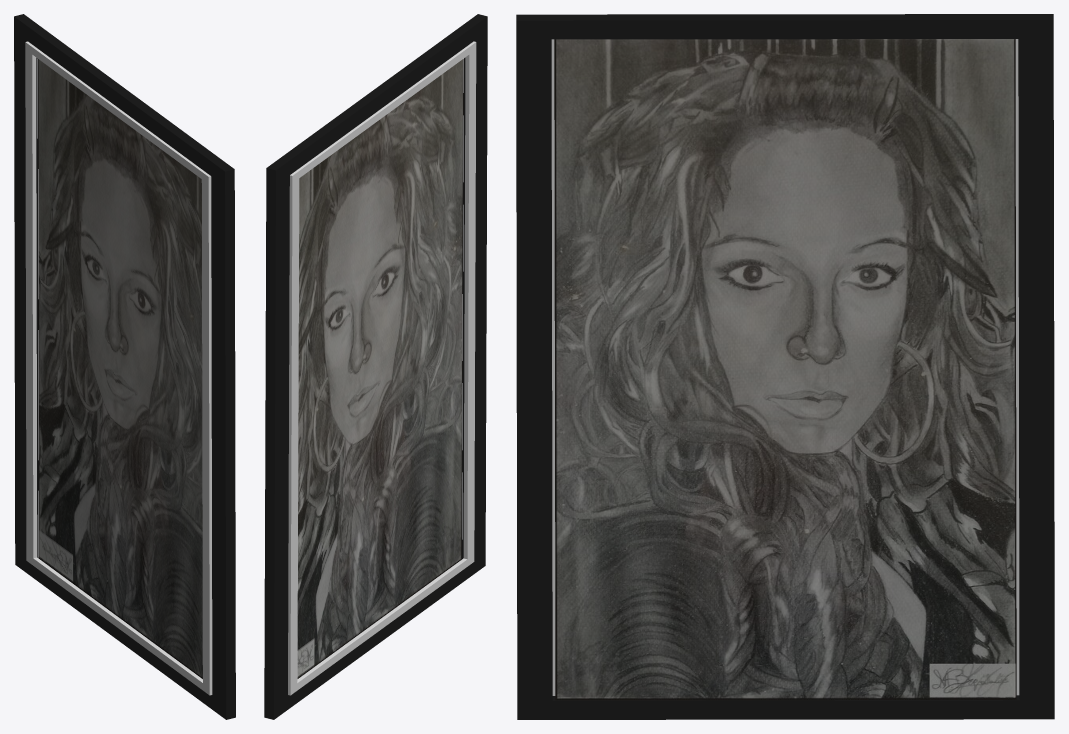
File: PortraitMerged.glb
3 views of the same model, side by side, from view 1: azimuth 30°, elevation 25°; view 2: azimuth 150°, elevation 25°; view 3: azimuth 270°, elevation 25° (orthographic). The views are drawn at different scales.
Visible parts, largest first — view 1: PortraitWife.001; view 2: PortraitWife.001; view 3: PortraitWife.001.
Part boxes in pixels (x1,y1,x2,y2): PortraitWife.001: (14,14,235,719); PortraitWife.001: (264,14,487,719); PortraitWife.001: (516,14,1054,719).
Size of the model in its own units: 0.0236 by 0.8841 by 0.6172.
3 materials, 1 textured.
